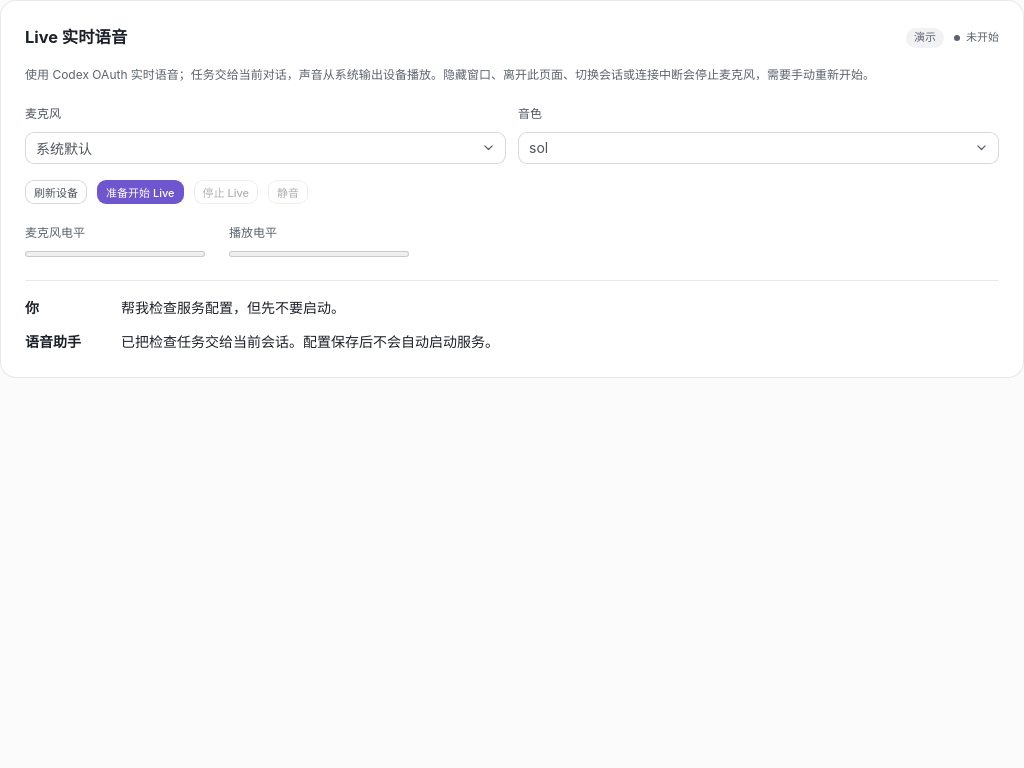
Test: demo Live reviews before activation and mute/stop never use the microphone or Host
Step 1. Click the button "准备开始 Live" → (140, 192), box [97, 180, 184, 204]
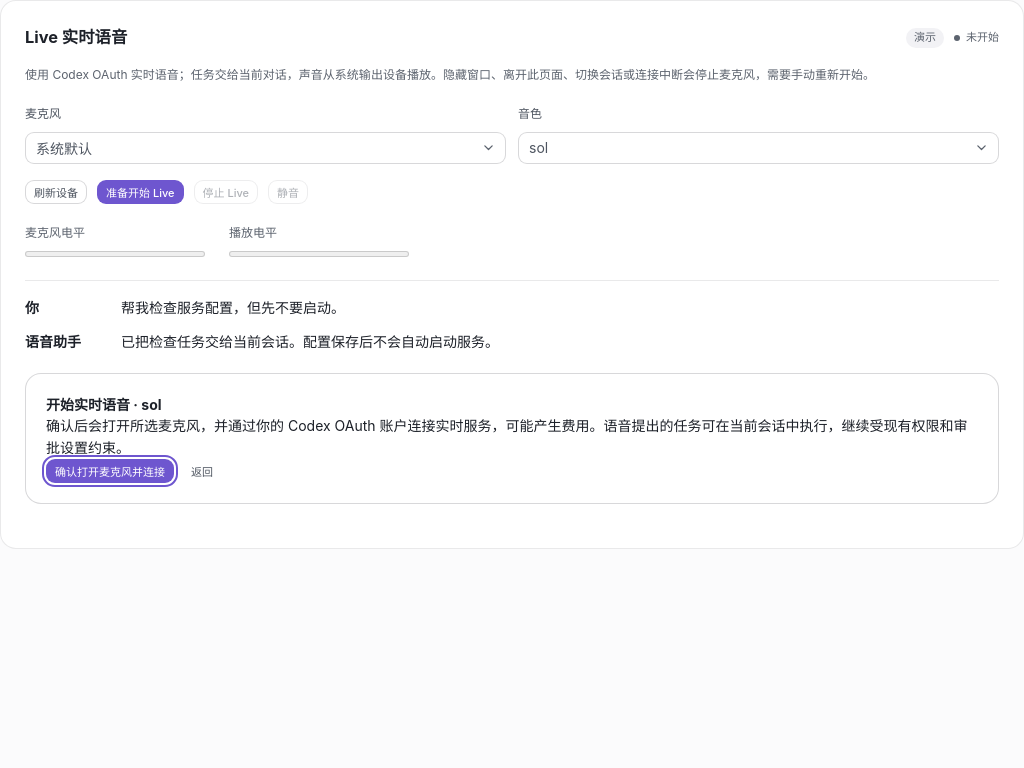
expect the element named "确认 Live 调用" is shown: met, box [25, 372, 999, 504]
Step 2. Click the button "确认打开麦克风并连接" → (110, 471), box [46, 459, 174, 483]
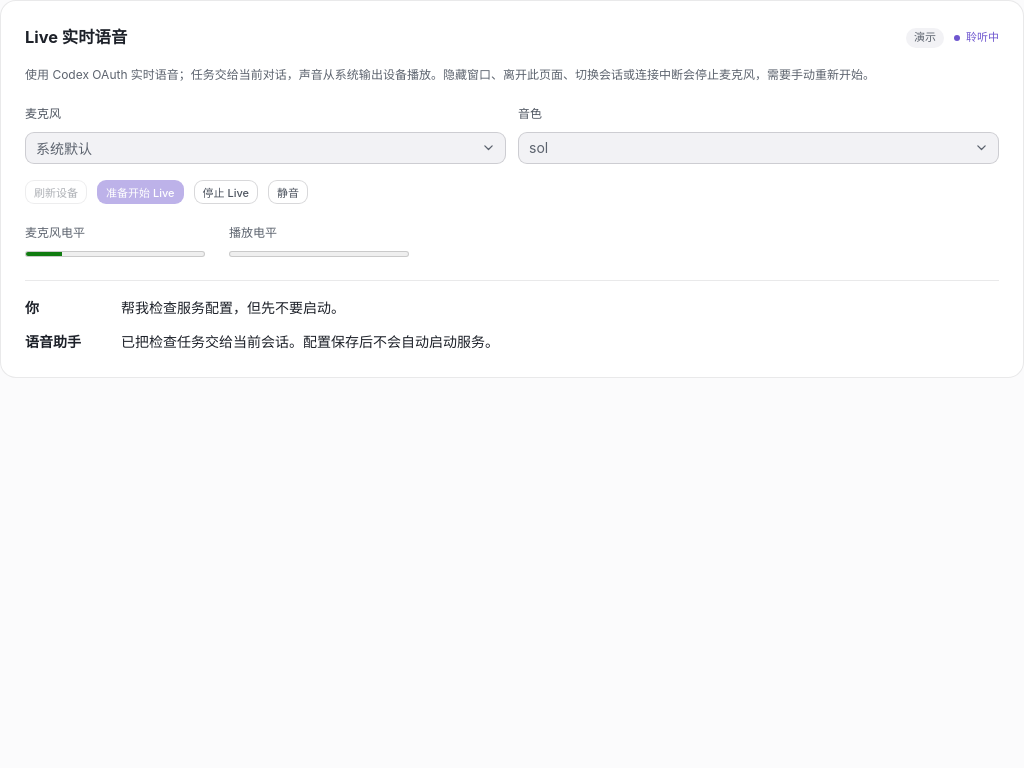
Step 3. Click the button "静音" → (288, 192), box [268, 180, 308, 204]
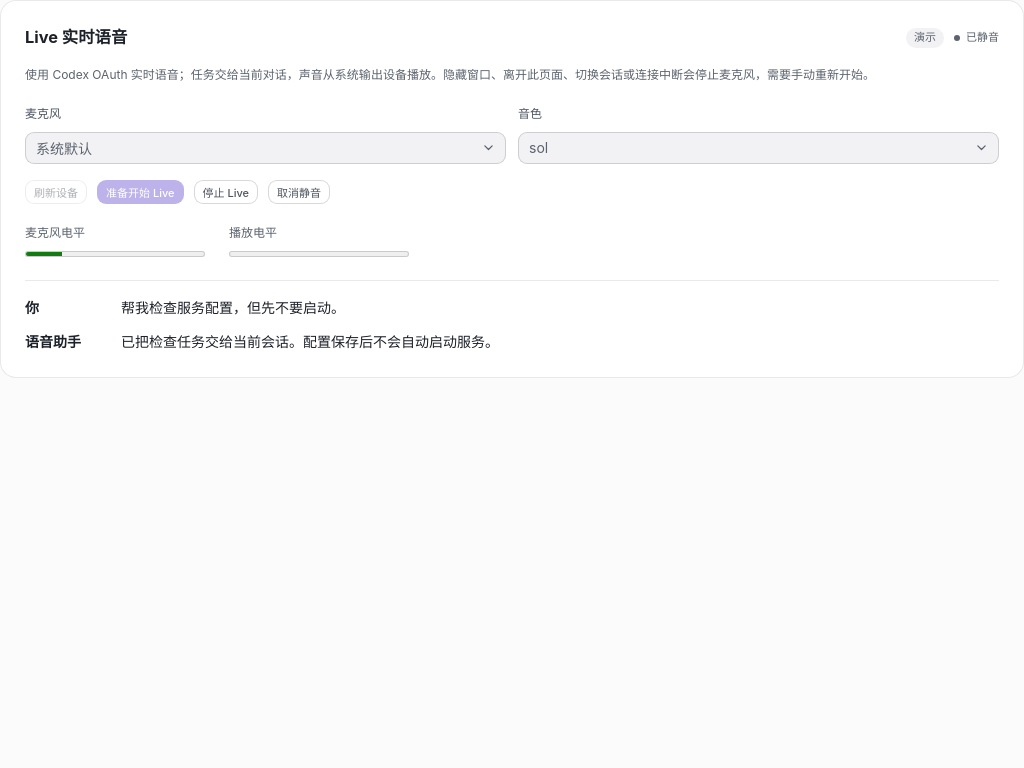
expect the button "取消静音" is shown: met, box [268, 180, 330, 204]
Step 4. Click the button "停止 Live" → (226, 192), box [194, 180, 258, 204]
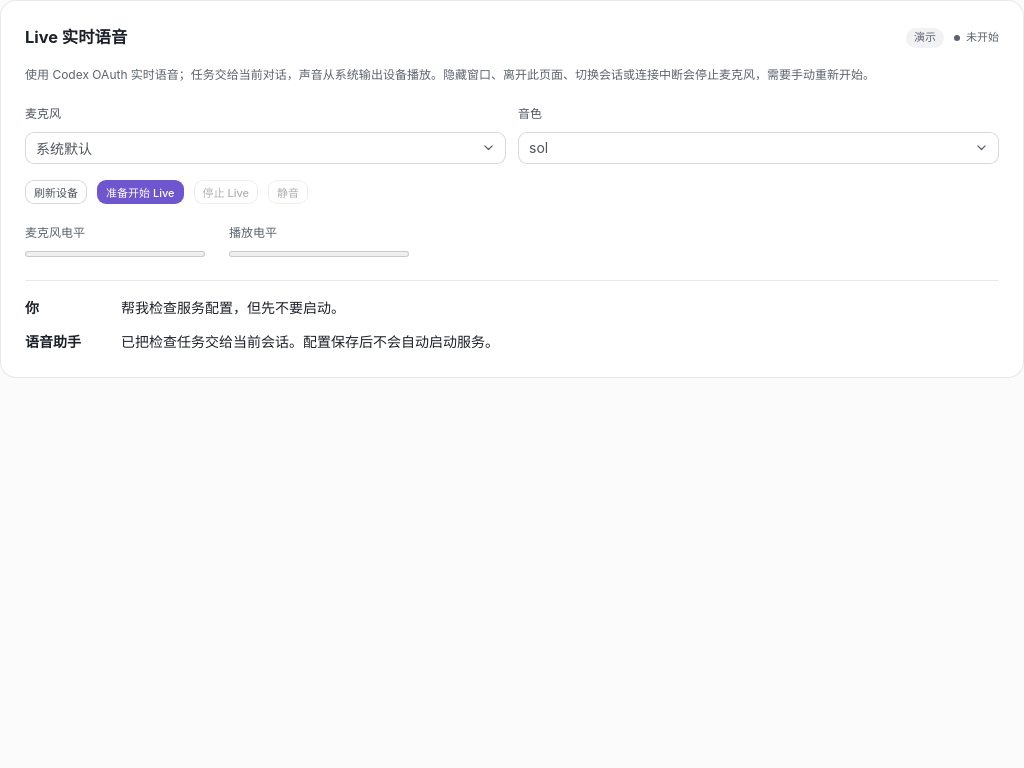
expect the button "停止 Live" is disabled: met, box [194, 180, 258, 204]
